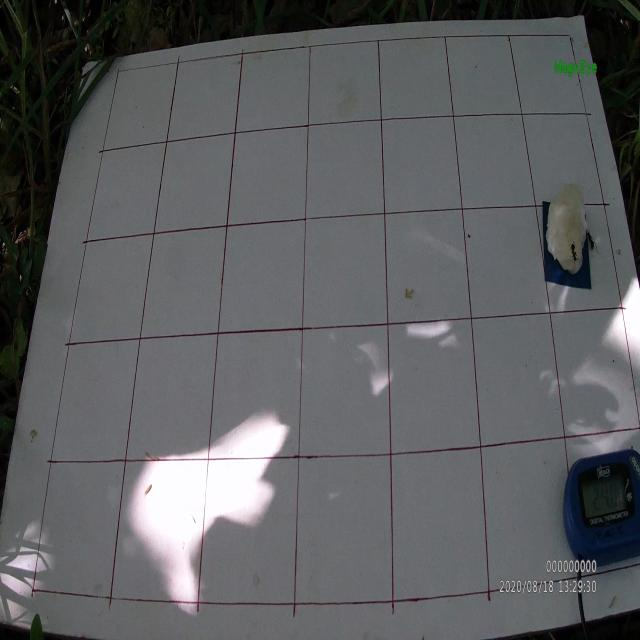Ant: (586, 228, 598, 257), (568, 238, 579, 264)
